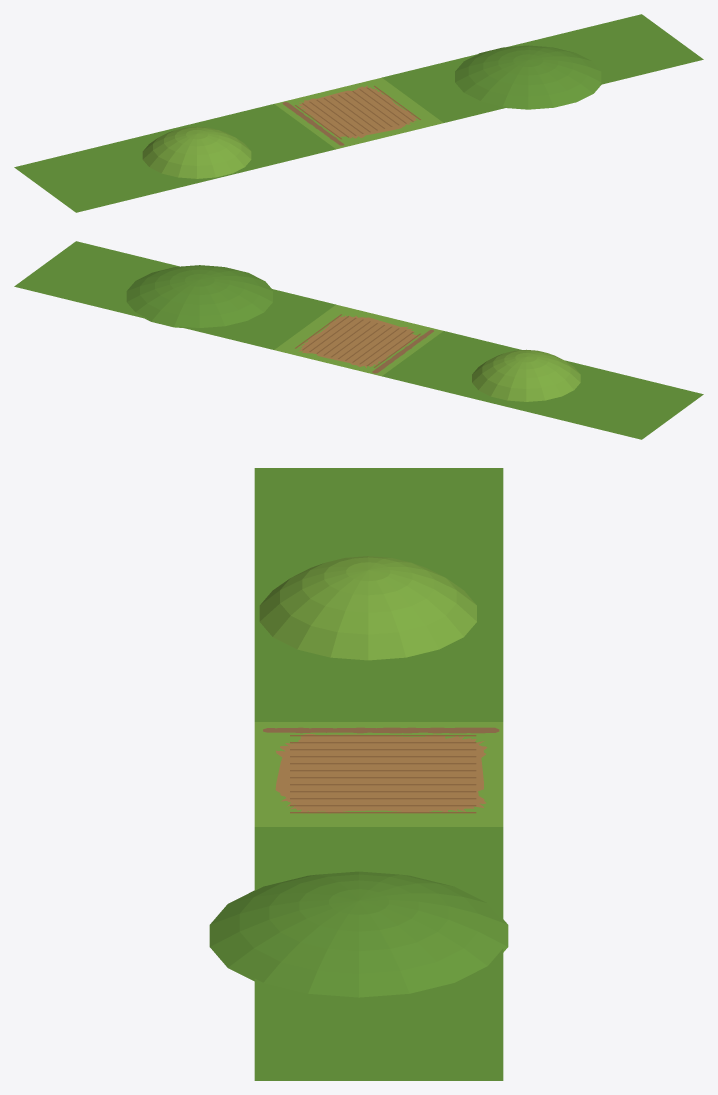
File: ground_wheat.glb
3 views of the same model, one above another, from view 1: azimuth 30°, elevation 25°; view 2: azimuth 150°, elevation 25°; view 3: azimuth 270°, elevation 25° (orthographic). The views are drawn at different scales.
Parts seen in each view (by area): view 1: Grass__649636, Grass__7CAA40, Ground__B0844E, Ground__966C3E, Ground__967048; view 2: Grass__649636, Grass__7CAA40, Ground__B0844E, Ground__966C3E, Ground__967048; view 3: Grass__649636, Grass__7CAA40, Ground__B0844E, Ground__966C3E, Ground__967048.
Part boxes in pixels (box(x1,y1,x2,y2)): Grass__649636: box(14, 14, 703, 212); Grass__7CAA40: box(142, 77, 443, 178); Ground__B0844E: box(298, 85, 416, 138); Ground__966C3E: box(295, 85, 420, 139); Ground__967048: box(282, 102, 344, 145); Grass__649636: box(14, 241, 703, 439); Grass__7CAA40: box(274, 304, 580, 401); Ground__B0844E: box(298, 315, 418, 367); Ground__966C3E: box(295, 314, 420, 367); Ground__967048: box(372, 330, 433, 373); Grass__649636: box(209, 468, 508, 1080); Grass__7CAA40: box(254, 556, 503, 826); Ground__B0844E: box(275, 734, 487, 813); Ground__966C3E: box(290, 735, 476, 813); Ground__967048: box(263, 727, 499, 733).
Bounding box in the file's own units: 700 × 23.85 × 144.
